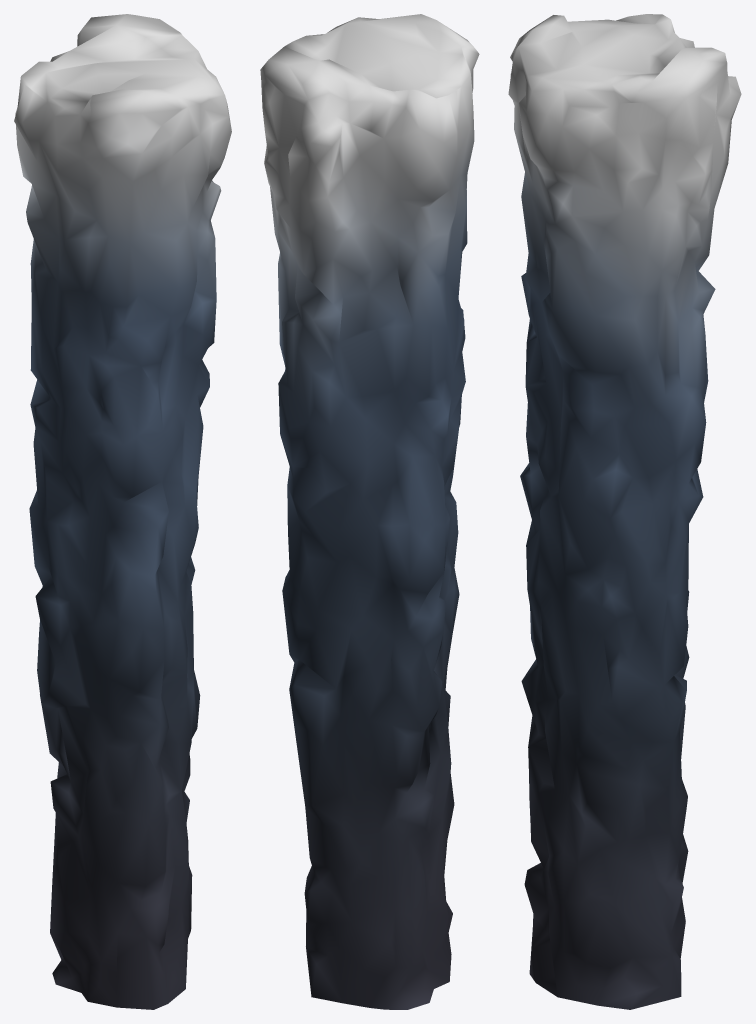
File: GroundFracPiece_S_New.FBX
3 views of the same model, side by side, from view 1: azimuth 30°, elevation 25°; view 2: azimuth 150°, elevation 25°; view 3: azimuth 270°, elevation 25° (orthographic). The views are drawn at different scales.
Visible parts, largest first — view 1: Box006; view 2: Box006; view 3: Box006.
Boxes of the visible parts, x1=… form: Box006: x1=14, y1=14, x2=231, y2=1009; Box006: x1=260, y1=14, x2=479, y2=1009; Box006: x1=508, y1=14, x2=741, y2=1009.
Bounding box in the file's own units: 76.28 × 83.63 × 374.
